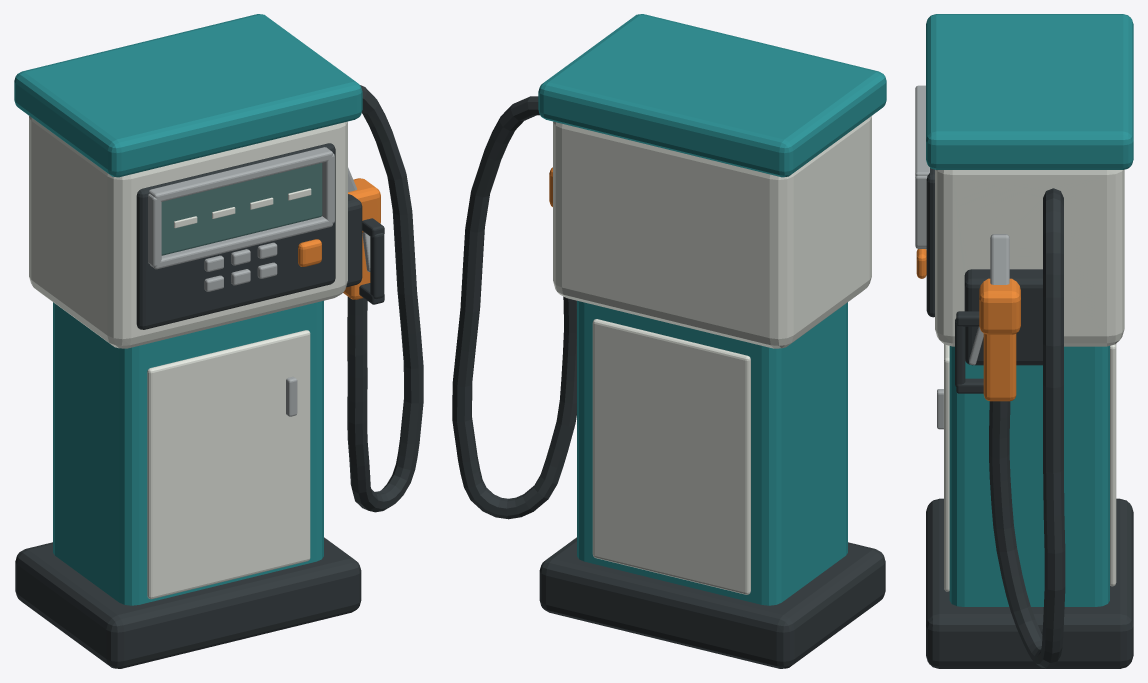
Rendered from NEW_RECOVERY_110_LOD0.fbx.
3 renders of one model, left to right at view 1: azimuth 30°, elevation 25°; view 2: azimuth 150°, elevation 25°; view 3: azimuth 270°, elevation 25°, orthographic.
Parts seen in each view (by area): view 1: Fuel_dispenser; view 2: Fuel_dispenser; view 3: Fuel_dispenser.
Part boxes in pixels (x1,y1,x2,y2): Fuel_dispenser: (14, 14, 423, 668); Fuel_dispenser: (452, 14, 886, 668); Fuel_dispenser: (915, 14, 1133, 668).
Bounding box in the file's own units: 147 × 73.55 × 200.
